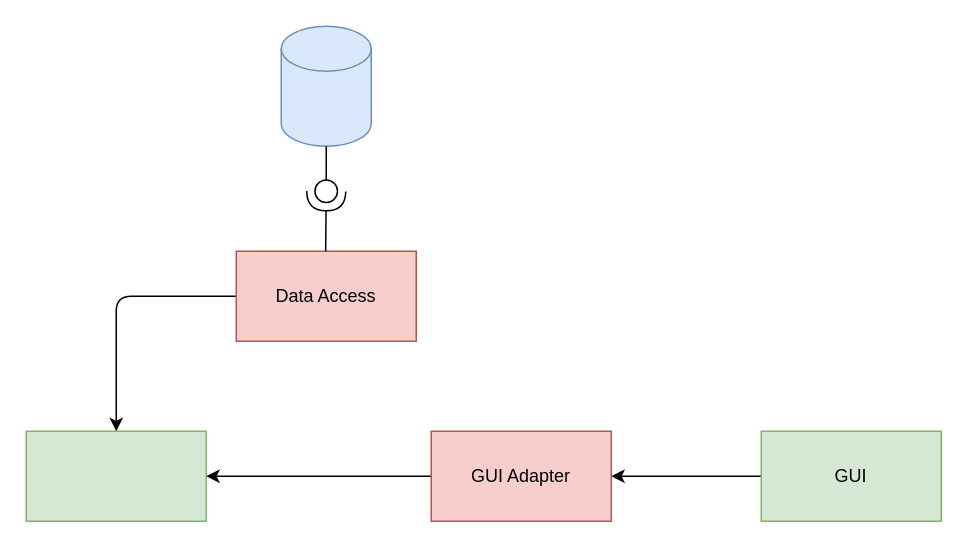
This 968x548 diagram has some shape labels left out. The shapes that lost their labels are listed below. From the top down, each one's centre as x and y in pixels, then its label:
At point (325, 85): "DataBase".
At point (115, 475): "Business Logic".
